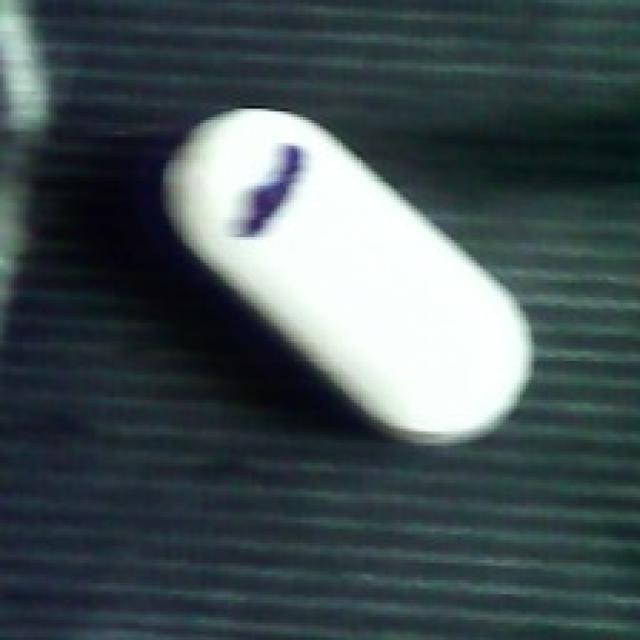defected: (154, 103, 540, 451)
